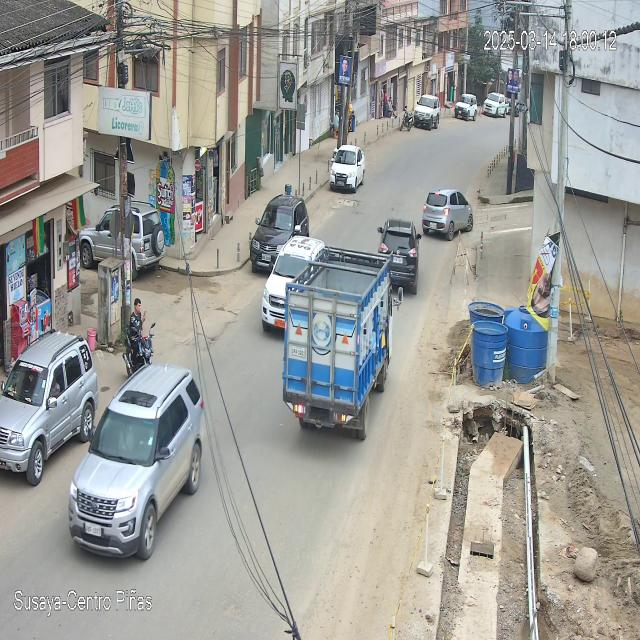CMT: (262, 236, 324, 332)
SUV: (68, 364, 204, 564)
TRUCK: (282, 247, 393, 441)
